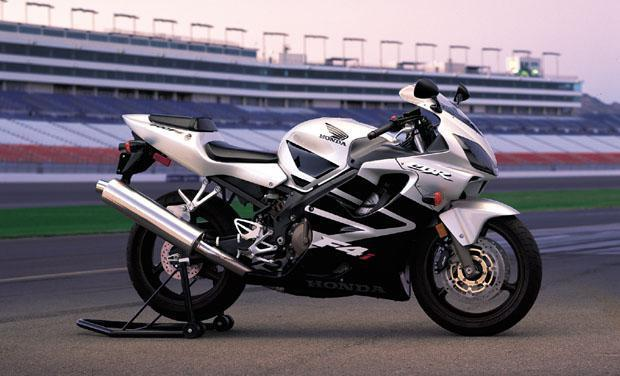motorcycle: (57, 51, 568, 363)
